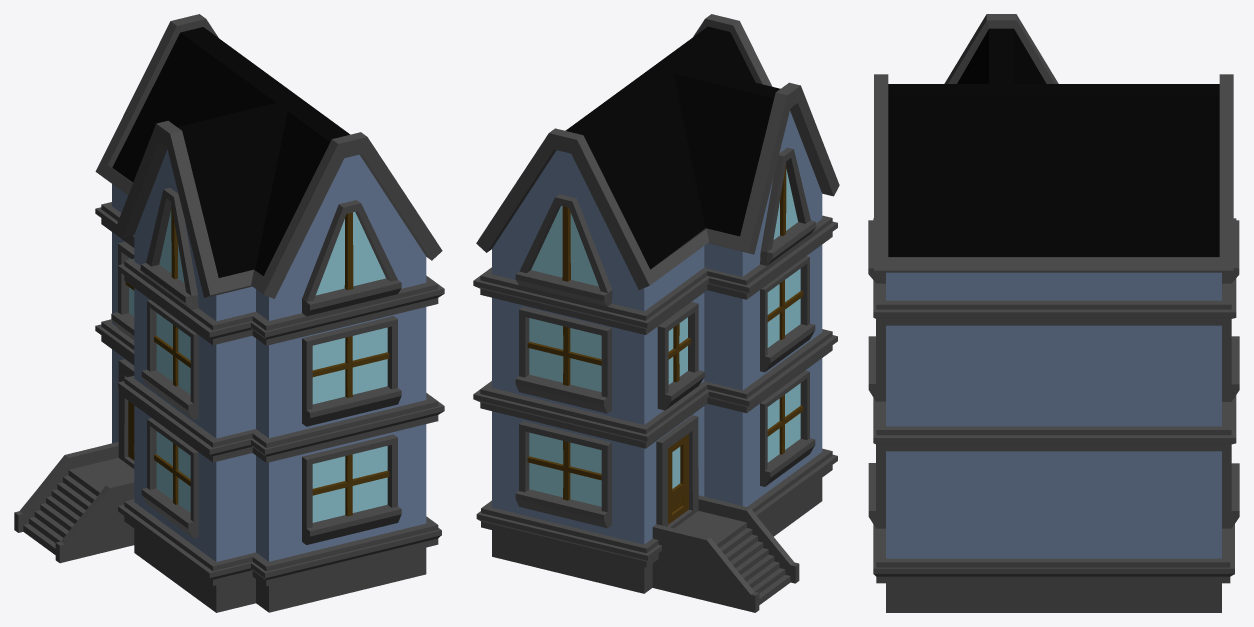
Rendered from BigHouse.fbx.
3 views of the same model, side by side, from view 1: azimuth 30°, elevation 25°; view 2: azimuth 150°, elevation 25°; view 3: azimuth 270°, elevation 25° (orthographic). The views are drawn at different scales.
Parts seen in each view (by area): view 1: Cube.025; view 2: Cube.025; view 3: Cube.025.
Part boxes in pixels (<box>): Cube.025: <box>14,14,444,612</box>; Cube.025: <box>473,14,839,612</box>; Cube.025: <box>868,14,1239,612</box>.
Size of the model in its own units: 660 by 1044 by 717.
